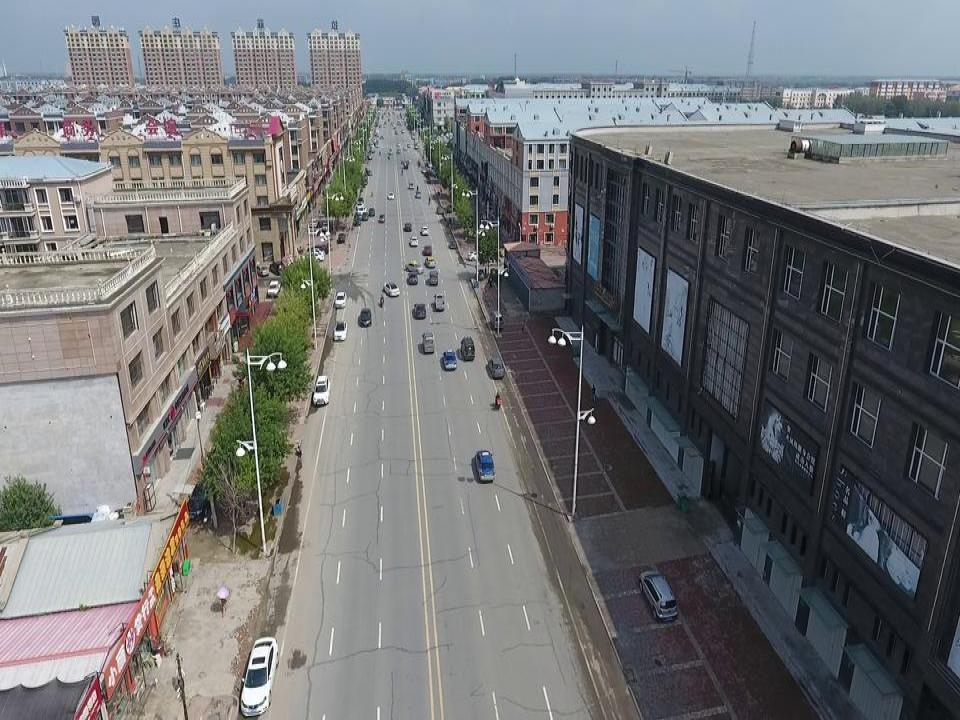car: (241, 635, 278, 716), (639, 570, 677, 622), (474, 451, 498, 480), (313, 373, 331, 408), (488, 356, 505, 379), (442, 349, 457, 371), (333, 322, 348, 342), (467, 250, 492, 262), (383, 281, 401, 296), (358, 308, 372, 327), (299, 252, 323, 263), (300, 248, 324, 259), (304, 244, 328, 255), (405, 260, 425, 273), (269, 260, 286, 275), (414, 301, 427, 320), (334, 292, 347, 308), (254, 264, 269, 277), (407, 272, 419, 285), (268, 281, 279, 295), (425, 256, 436, 268), (408, 236, 419, 247), (423, 244, 433, 256), (421, 225, 430, 236), (478, 268, 485, 281), (404, 221, 412, 232), (337, 233, 345, 243), (449, 240, 457, 249), (309, 221, 318, 228), (322, 222, 328, 230)
truck: (433, 292, 445, 309)
van: (460, 335, 476, 361), (490, 309, 504, 331), (421, 331, 435, 353), (428, 271, 439, 285)
